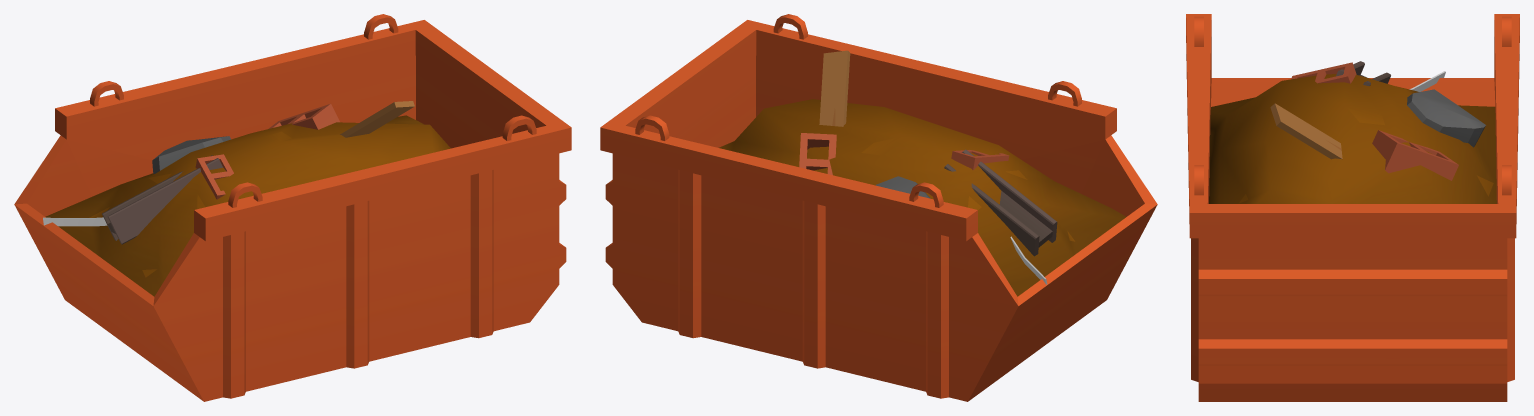
Rendered from RubbleContainer_A_2.fbx.
3 renders of one model, left to right at view 1: azimuth 30°, elevation 25°; view 2: azimuth 150°, elevation 25°; view 3: azimuth 270°, elevation 25°, orthographic. The views are drawn at different scales.
Visible parts, largest first — view 1: RubbleContainer_A_2; view 2: RubbleContainer_A_2; view 3: RubbleContainer_A_2.
Part boxes in pixels (x1,y1,x2,y2): RubbleContainer_A_2: (14,14,571,401); RubbleContainer_A_2: (600,14,1157,401); RubbleContainer_A_2: (1186,14,1519,401).
Bounding box in the file's own units: 413 × 210 × 260.
